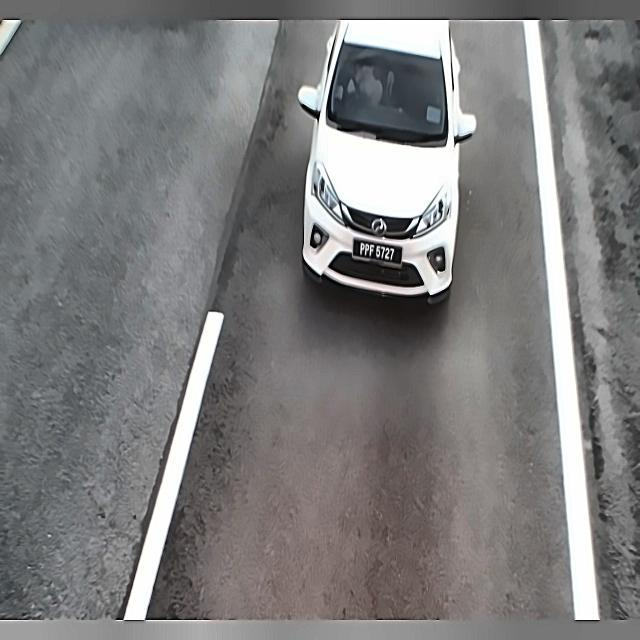car: (352, 230, 404, 272)
